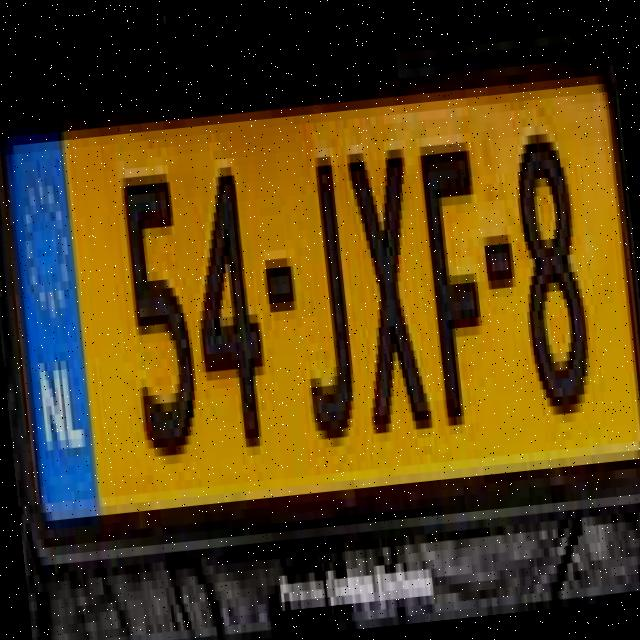EU: (0, 76, 640, 539)
Pays-Bas: (3, 134, 101, 525)
